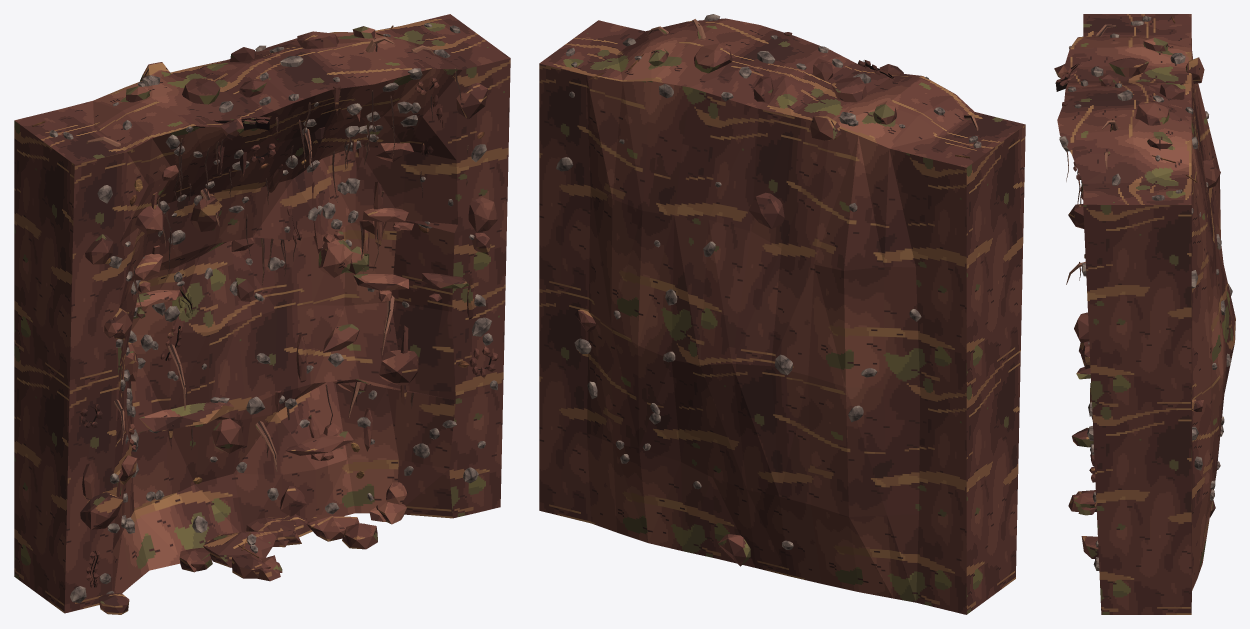
The model's file is SM_AN01_EarthWall.fbx.
The picture shows the model from 3 angles, left to right: view 1: azimuth 30°, elevation 25°; view 2: azimuth 150°, elevation 25°; view 3: azimuth 270°, elevation 25°; orthographic projection. The views are drawn at different scales.
Visible parts, largest first — view 1: AN01a_Earth, AN01a_Props, AN01a_Root; view 2: AN01a_Earth, AN01a_Props; view 3: AN01a_Earth, AN01a_Props, AN01a_Root.
Boxes of the visible parts, x1=… form: AN01a_Earth: x1=14, y1=14, x2=510, y2=614; AN01a_Props: x1=32, y1=23, x2=497, y2=602; AN01a_Root: x1=86, y1=36, x2=468, y2=471; AN01a_Earth: x1=539, y1=18, x2=1025, y2=614; AN01a_Props: x1=556, y1=14, x2=981, y2=549; AN01a_Earth: x1=1054, y1=14, x2=1235, y2=614; AN01a_Props: x1=1055, y1=16, x2=1232, y2=570; AN01a_Root: x1=1066, y1=24, x2=1118, y2=284.
Size of the model in its own units: 4 by 4.34 by 1.61.
